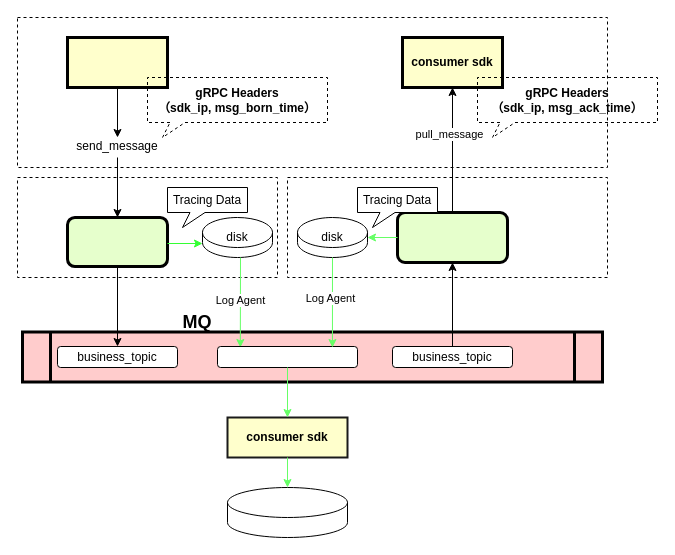
Image size: 675x555. Some labels were removed from this diagram. Each missing label, with the centre of its shape:
"consumer proxy" goes at [452,237].
"mq_tracing_topic" goes at [287,357].
"producer proxy" goes at [117,242].
"producer sdk" goes at [117,62].
"TIKV" goes at [287,512].
